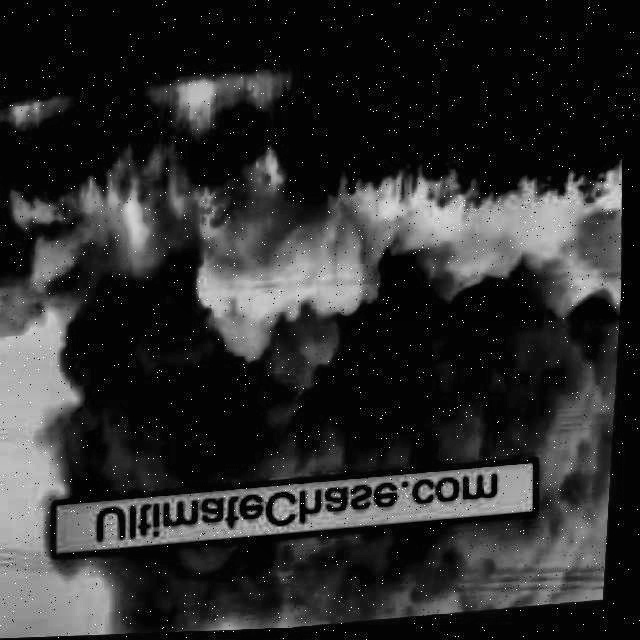Fire: (0, 174, 631, 501), (68, 518, 615, 637), (253, 75, 296, 204), (165, 75, 223, 150), (125, 181, 165, 269), (6, 103, 51, 129)
